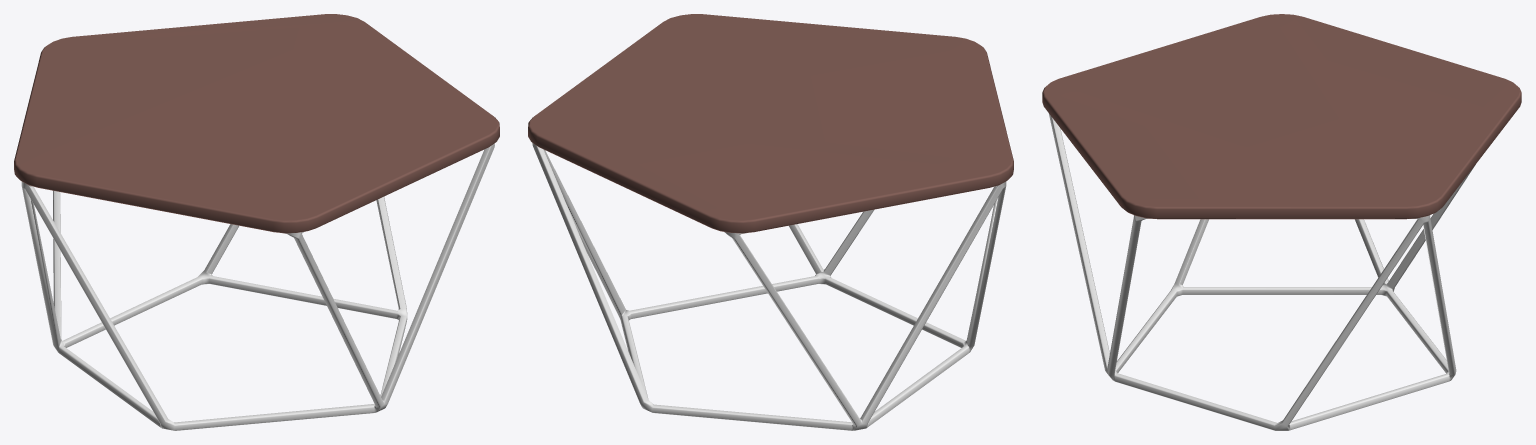
Rendered from CoffeeTable.fbx.
The picture shows the model from 3 angles, left to right: view 1: azimuth 30°, elevation 25°; view 2: azimuth 150°, elevation 25°; view 3: azimuth 270°, elevation 25°; orthographic projection. The views are drawn at different scales.
Visible parts, largest first — view 1: CoffeTableTop, CoffeTableLegs; view 2: CoffeTableTop, CoffeTableLegs; view 3: CoffeTableTop, CoffeTableLegs.
Part boxes in pixels (left/top/right/bottom): CoffeTableTop: left=14, top=14, right=499, bottom=233; CoffeTableLegs: left=21, top=143, right=494, bottom=430; CoffeTableTop: left=528, top=14, right=1013, bottom=233; CoffeTableLegs: left=532, top=143, right=1006, bottom=430; CoffeTableTop: left=1042, top=14, right=1521, bottom=219; CoffeTableLegs: left=1048, top=113, right=1475, bottom=430.
Bounding box in the file's own units: 0.7829 × 0.4451 × 0.8166.
